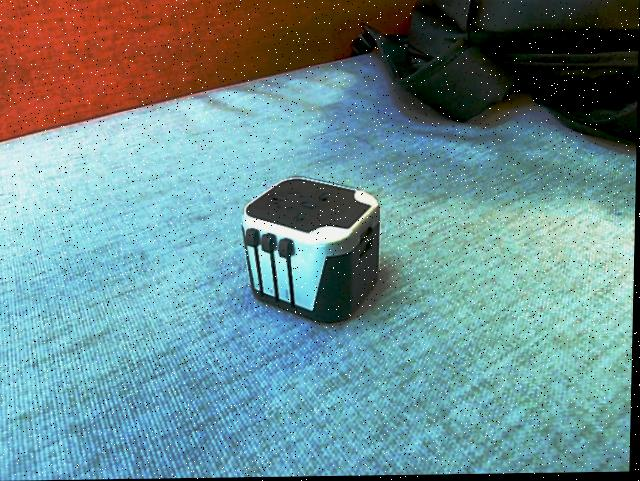adapter: (239, 176, 382, 325)
